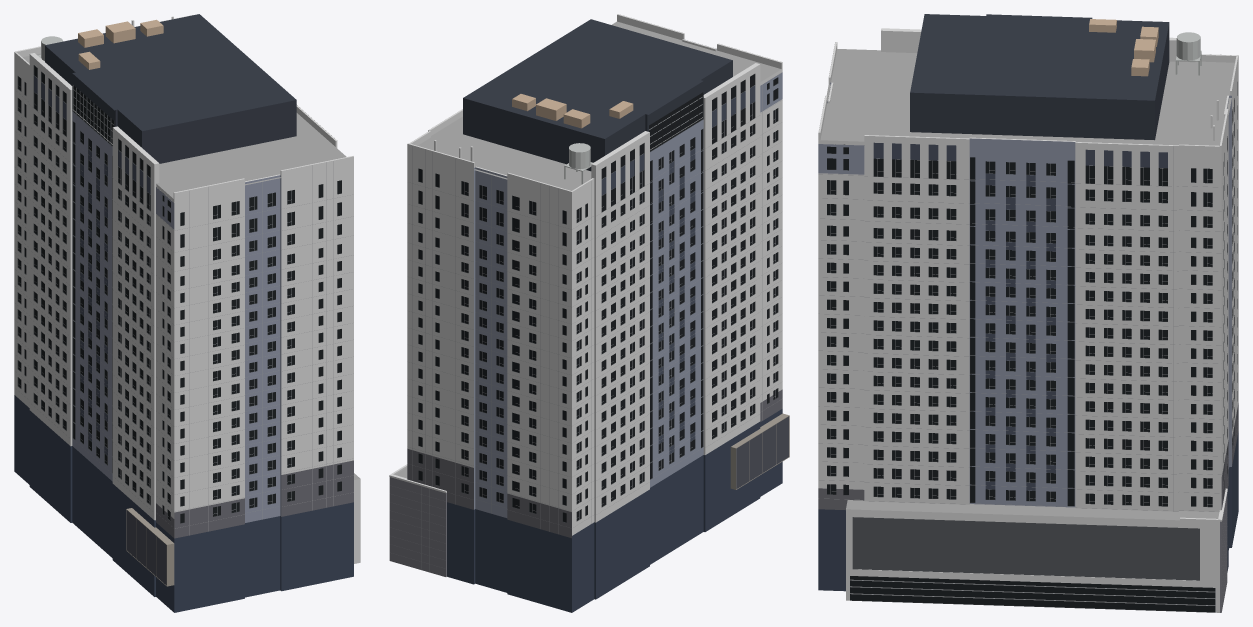
File: rise-at-west-campus-look.glb
3 views of the same model, side by side, from view 1: azimuth 30°, elevation 25°; view 2: azimuth 150°, elevation 25°; view 3: azimuth 270°, elevation 25° (orthographic). The views are drawn at different scales.
Visible parts, largest first — view 1: n_wall_white_panel, n_wall_dark_base, n_glass_window, n_penthouse_dark_navy, n_wall_grey_panel, n_window_frame_dark, n_roof_membrane, n_wall_charcoal_panel, n_panel_joint_grey, n_window_mullion_light, n_spandrel_dark_grey, n_garage_louver_grey (+4 smaller); view 2: n_wall_white_panel, n_glass_window, n_wall_dark_base, n_wall_grey_panel, n_penthouse_dark_navy, n_window_frame_dark, n_panel_joint_grey, n_roof_membrane, n_podium_light_grey_panel, n_wall_charcoal_panel, n_window_mullion_light, n_spandrel_dark_grey (+6 smaller); view 3: n_wall_white_panel, n_glass_window, n_wall_grey_panel, n_penthouse_dark_navy, n_garage_screen_dark, n_roof_membrane, n_glass_curtain, n_window_frame_dark, n_window_mullion_light, n_spandrel_dark_grey, n_panel_joint_grey, n_wall_dark_base (+5 smaller).
Boxes of the visible parts, <box> form: n_wall_white_panel: <box>14,53,360,563</box>; n_wall_dark_base: <box>14,395,353,612</box>; n_glass_window: <box>18,65,341,523</box>; n_penthouse_dark_navy: <box>45,14,296,163</box>; n_wall_grey_panel: <box>72,111,281,522</box>; n_window_frame_dark: <box>17,65,341,523</box>; n_roof_membrane: <box>22,53,360,479</box>; n_wall_charcoal_panel: <box>156,460,353,538</box>; n_panel_joint_grey: <box>14,91,353,535</box>; n_window_mullion_light: <box>18,85,291,519</box>; n_spandrel_dark_grey: <box>34,76,150,455</box>; n_garage_louver_grey: <box>126,510,166,585</box>; n_wall_white_panel: <box>407,63,782,535</box>; n_glass_window: <box>418,74,777,522</box>; n_wall_dark_base: <box>447,409,782,612</box>; n_wall_grey_panel: <box>474,39,782,517</box>; n_penthouse_dark_navy: <box>463,19,732,171</box>; n_window_frame_dark: <box>418,74,778,522</box>; n_panel_joint_grey: <box>390,85,781,572</box>; n_roof_membrane: <box>395,21,781,478</box>; n_podium_light_grey_panel: <box>389,477,446,576</box>; n_wall_charcoal_panel: <box>407,389,782,538</box>; n_window_mullion_light: <box>464,97,775,519</box>; n_spandrel_dark_grey: <box>601,85,755,454</box>; n_wall_white_panel: <box>818,28,1238,612</box>; n_glass_window: <box>827,144,1212,506</box>; n_wall_grey_panel: <box>818,82,1231,507</box>; n_penthouse_dark_navy: <box>910,14,1169,140</box>; n_garage_screen_dark: <box>852,517,1199,580</box>; n_roof_membrane: <box>820,49,1234,520</box>; n_glass_curtain: <box>850,576,1215,612</box>; n_window_frame_dark: <box>827,82,1237,612</box>; n_window_mullion_light: <box>830,159,1215,612</box>; n_spandrel_dark_grey: <box>873,142,1167,490</box>; n_panel_joint_grey: <box>818,146,1228,511</box>; n_wall_dark_base: <box>818,431,1238,591</box>.
Size of the model in its own units: 41.67 by 82.6 by 62.76.
